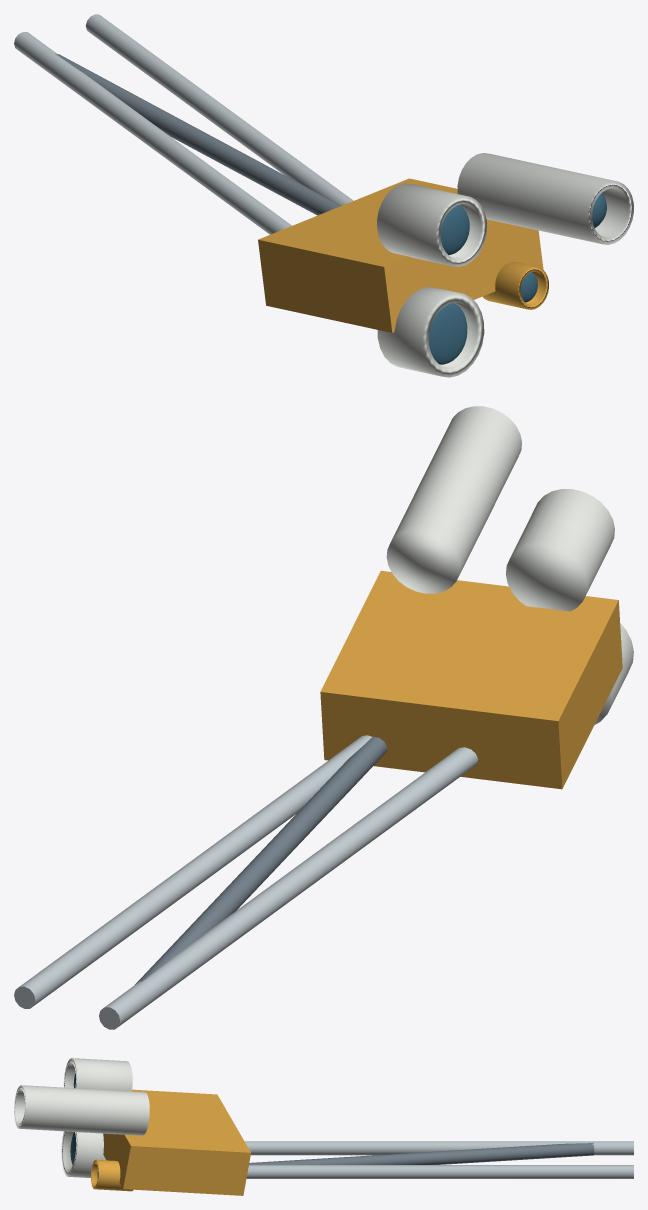
File: voyager_scan_platform.glb
3 views of the same model, one above another, from view 1: azimuth 30°, elevation 25°; view 2: azimuth 150°, elevation 25°; view 3: azimuth 270°, elevation 25° (orthographic). The views are drawn at different scales.
Parts seen in each view (by area): view 1: voyager_scan_platform.boom.azimuth.elevation.mesh_Gold_therm, voyager_scan_platform.boom.mesh_Satin_aluminum, voyager_scan_platform.boom.azimuth.elevation.narrow_angle.me, voyager_scan_platform.boom.azimuth.elevation.wide_angle.mesh, voyager_scan_platform.boom.azimuth.elevation.iris.mesh_Pale_, voyager_scan_platform.boom.mesh_Machined_steel, voyager_scan_platform.boom.azimuth.elevation.uvs.mesh_Gold_t, voyager_scan_platform.boom.azimuth.elevation.iris.lens.mesh_, voyager_scan_platform.boom.azimuth.elevation.wide_angle.lens; view 2: voyager_scan_platform.boom.azimuth.elevation.mesh_Gold_therm, voyager_scan_platform.boom.mesh_Satin_aluminum, voyager_scan_platform.boom.azimuth.elevation.narrow_angle.me, voyager_scan_platform.boom.azimuth.elevation.wide_angle.mesh, voyager_scan_platform.boom.mesh_Machined_steel, voyager_scan_platform.boom.azimuth.elevation.iris.mesh_Pale_; view 3: voyager_scan_platform.boom.azimuth.elevation.mesh_Gold_therm, voyager_scan_platform.boom.mesh_Satin_aluminum, voyager_scan_platform.boom.azimuth.elevation.narrow_angle.me, voyager_scan_platform.boom.mesh_Machined_steel, voyager_scan_platform.boom.azimuth.elevation.wide_angle.mesh, voyager_scan_platform.boom.azimuth.elevation.iris.mesh_Pale_, voyager_scan_platform.boom.azimuth.elevation.uvs.mesh_Gold_t.
Boxes of the visible parts, box(x1,y1,x2,y2) form: voyager_scan_platform.boom.azimuth.elevation.mesh_Gold_therm: box(258, 178, 543, 332); voyager_scan_platform.boom.mesh_Satin_aluminum: box(14, 14, 353, 234); voyager_scan_platform.boom.azimuth.elevation.narrow_angle.me: box(457, 153, 633, 244); voyager_scan_platform.boom.azimuth.elevation.wide_angle.mesh: box(377, 183, 486, 266); voyager_scan_platform.boom.azimuth.elevation.iris.mesh_Pale_: box(377, 287, 484, 377); voyager_scan_platform.boom.mesh_Machined_steel: box(55, 53, 340, 215); voyager_scan_platform.boom.azimuth.elevation.uvs.mesh_Gold_t: box(482, 262, 548, 309); voyager_scan_platform.boom.azimuth.elevation.iris.lens.mesh_: box(429, 303, 467, 364); voyager_scan_platform.boom.azimuth.elevation.wide_angle.lens: box(441, 205, 469, 254); voyager_scan_platform.boom.azimuth.elevation.mesh_Gold_therm: box(320, 570, 622, 789); voyager_scan_platform.boom.mesh_Satin_aluminum: box(14, 735, 477, 1029); voyager_scan_platform.boom.azimuth.elevation.narrow_angle.me: box(386, 406, 521, 593); voyager_scan_platform.boom.azimuth.elevation.wide_angle.mesh: box(506, 489, 614, 611); voyager_scan_platform.boom.mesh_Machined_steel: box(135, 736, 386, 984); voyager_scan_platform.boom.azimuth.elevation.iris.mesh_Pale_: box(594, 623, 633, 724); voyager_scan_platform.boom.azimuth.elevation.mesh_Gold_therm: box(103, 1089, 250, 1195); voyager_scan_platform.boom.mesh_Satin_aluminum: box(244, 1141, 633, 1178); voyager_scan_platform.boom.azimuth.elevation.narrow_angle.me: box(14, 1085, 149, 1135); voyager_scan_platform.boom.mesh_Machined_steel: box(249, 1143, 594, 1164); voyager_scan_platform.boom.azimuth.elevation.wide_angle.mesh: box(63, 1058, 132, 1091); voyager_scan_platform.boom.azimuth.elevation.iris.mesh_Pale_: box(61, 1131, 105, 1177); voyager_scan_platform.boom.azimuth.elevation.uvs.mesh_Gold_t: box(91, 1159, 133, 1191).
Bounding box in the file's own units: 0.5423 × 0.4349 × 1.83.
